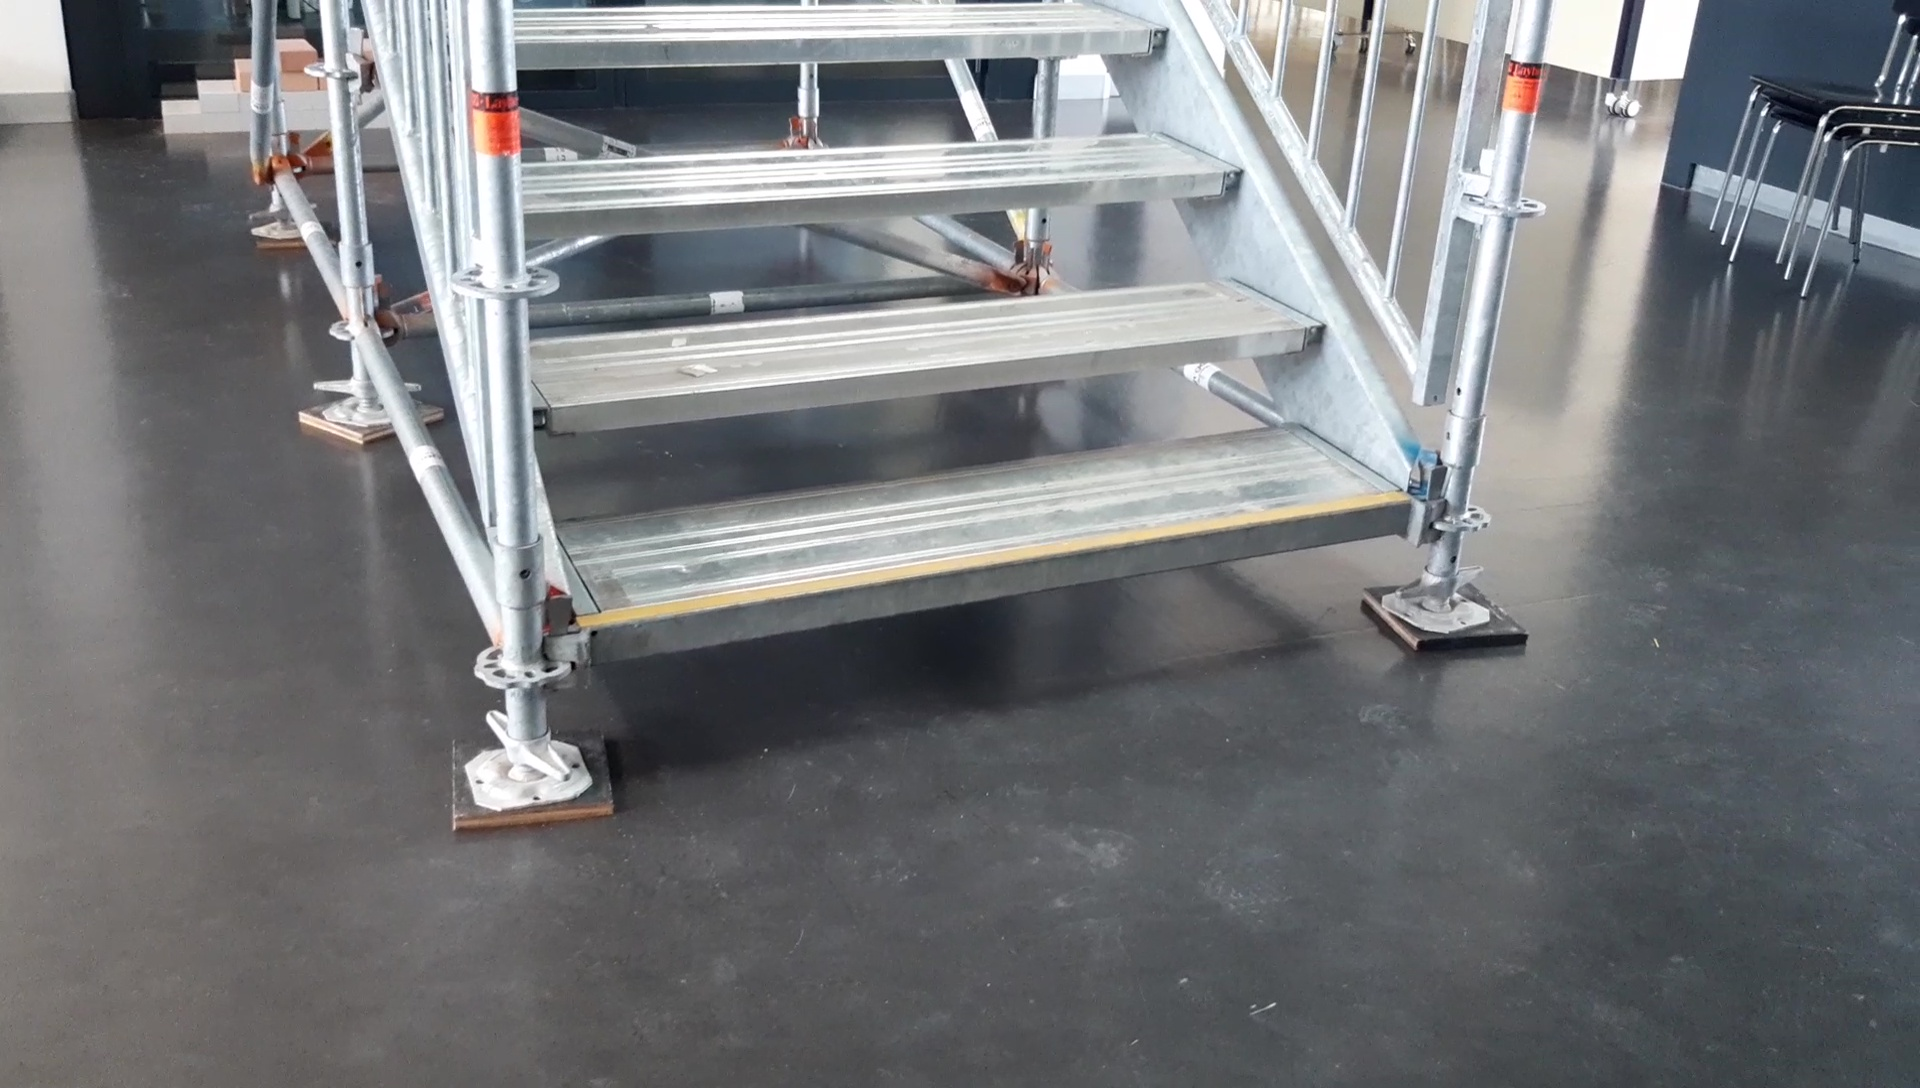edge: (591, 499, 1406, 659), (539, 320, 1327, 433), (522, 167, 1242, 232), (513, 25, 1167, 65)
stairs: (447, 5, 1527, 828)
